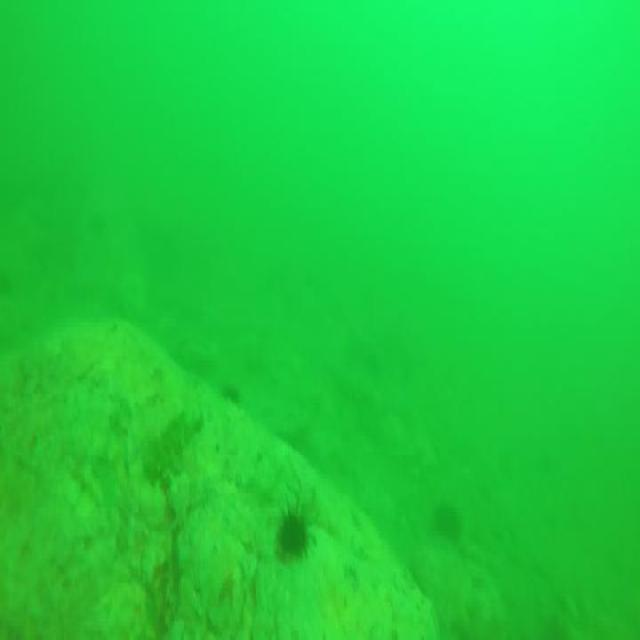echinus: (274, 506, 314, 567), (438, 508, 466, 540)
holothurian: (145, 406, 201, 487)
